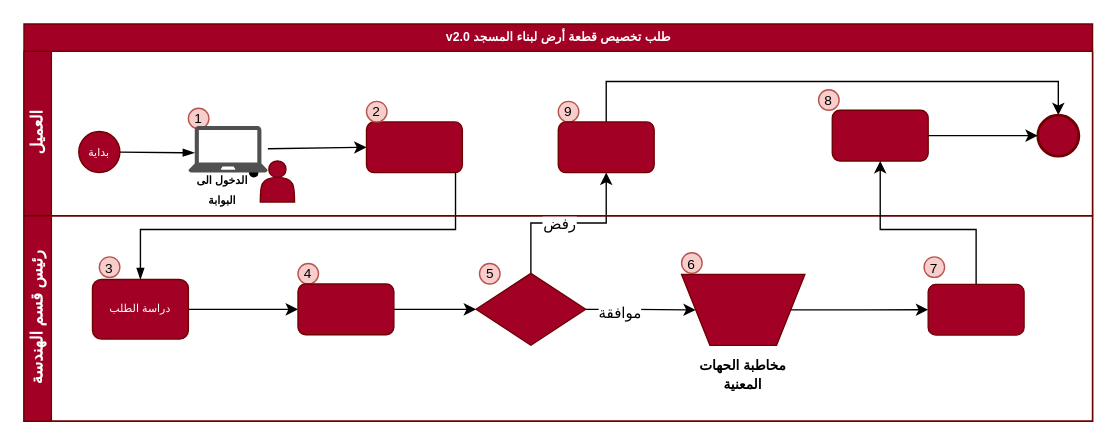
Some shapes in this 1117 by 445 pixel diagram are drawn without their labels. Here are the shapes that lost their labels. From the top down, the centre of each, then its label:
[413,147]: تعبئة و نموذج و تقديم طلب (اختيار قطعة الأرض من الخريطة)
[605,147]: ارسال رسالة اعتذار
[879,135]: ارسال رسالة موافقة
[1058,135]: اغلاق
[345,309]: الاجتماع مع العميل (خطوة اختيارية)
[530,308]: موافقة؟
[975,309]: اخطار قسم علاقات المتبرعين
